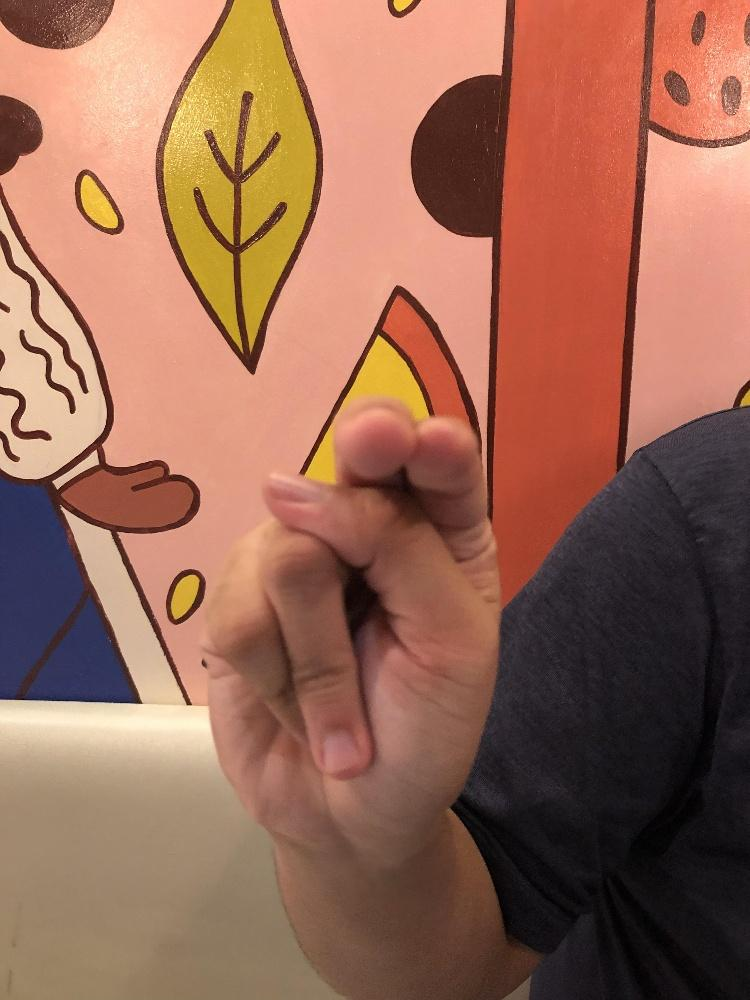n: (200, 392, 503, 843)
